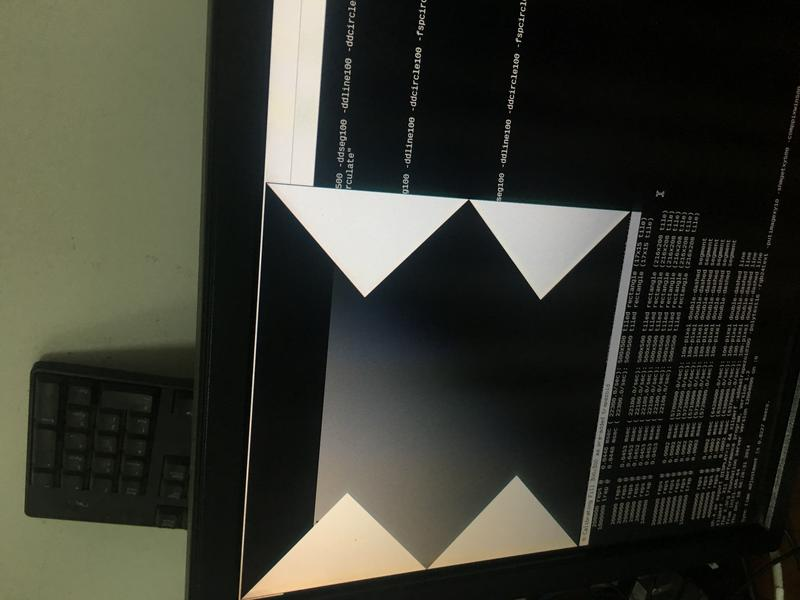xrandr_pass: (235, 172, 649, 577)
